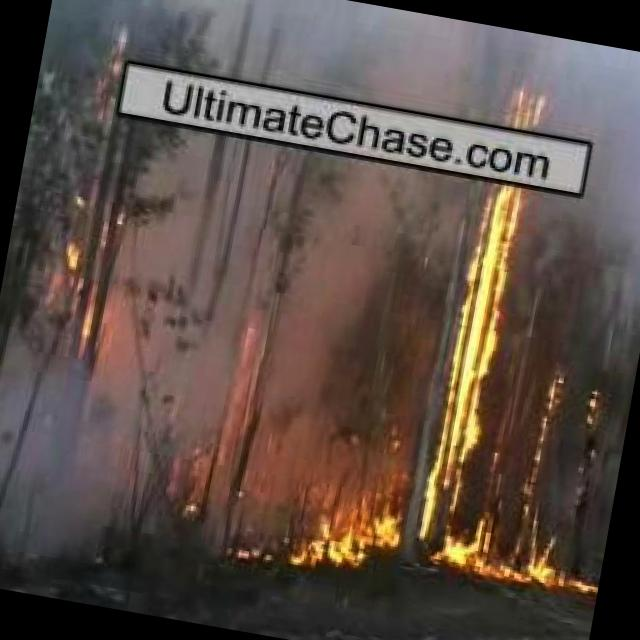fire: (412, 96, 554, 566), (290, 486, 404, 572), (510, 515, 602, 599)
